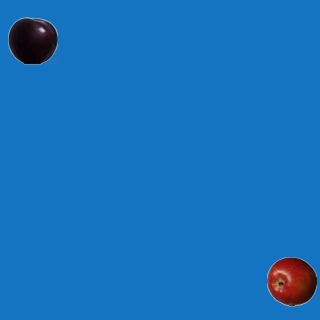Apple Braeburn: (266, 256, 316, 306)
Cherry Wax Black: (7, 15, 57, 65)
